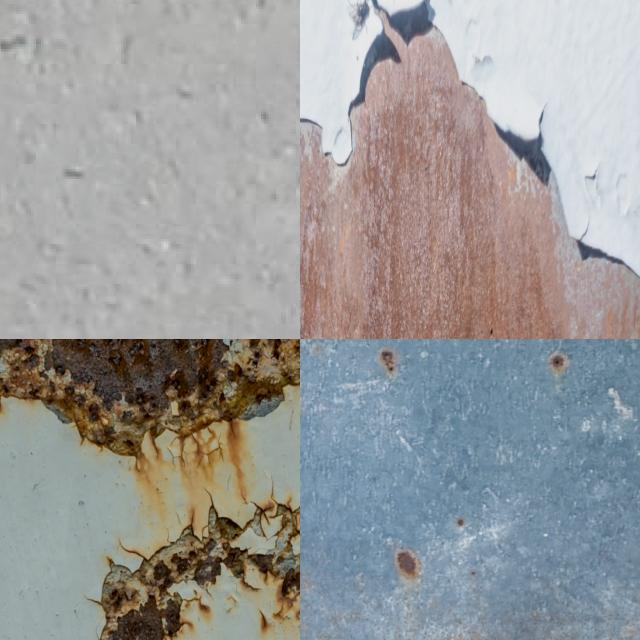Pitting Corrosion: (98, 504, 300, 640)
Uniform Corrosion: (300, 0, 640, 339), (396, 550, 420, 580)
